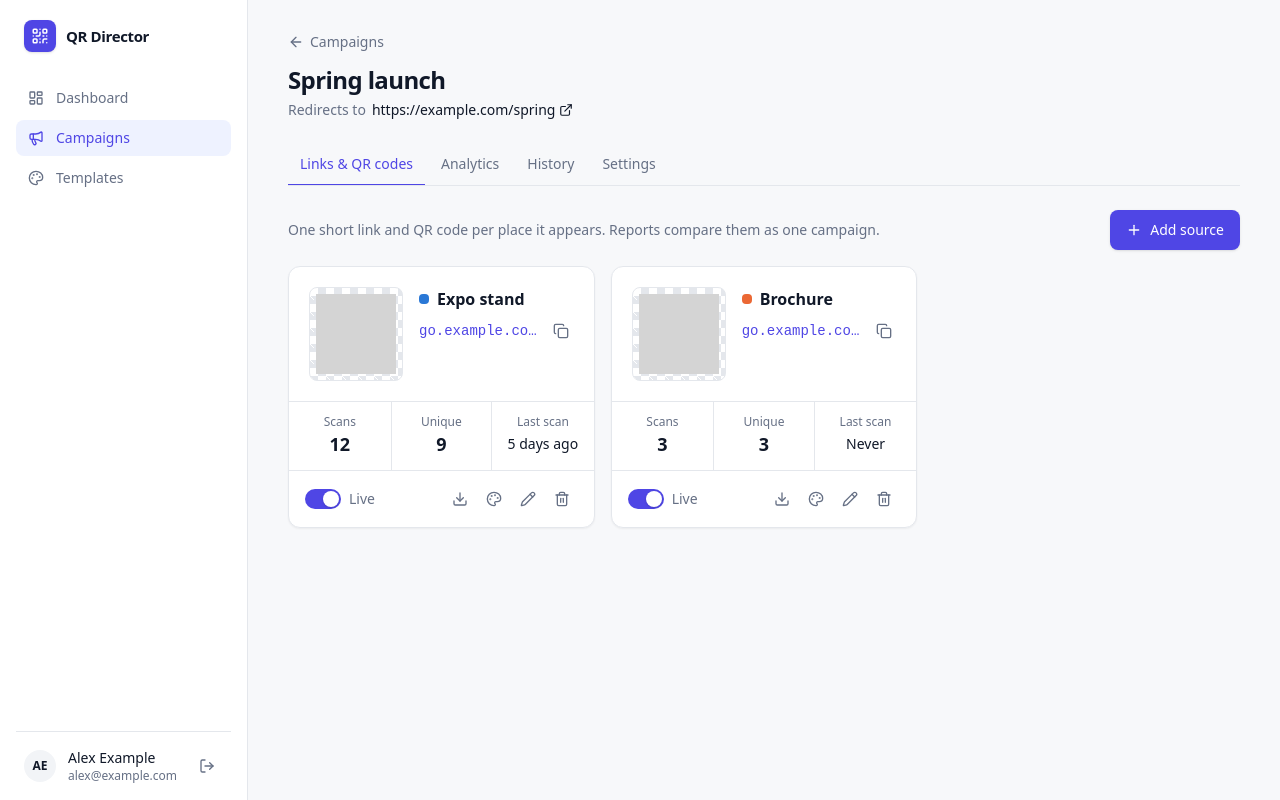
campaigns › warns when a custom code is already taken
Click the button "Add source": (1175, 230) top-left (1110, 210), bottom-right (1240, 250)
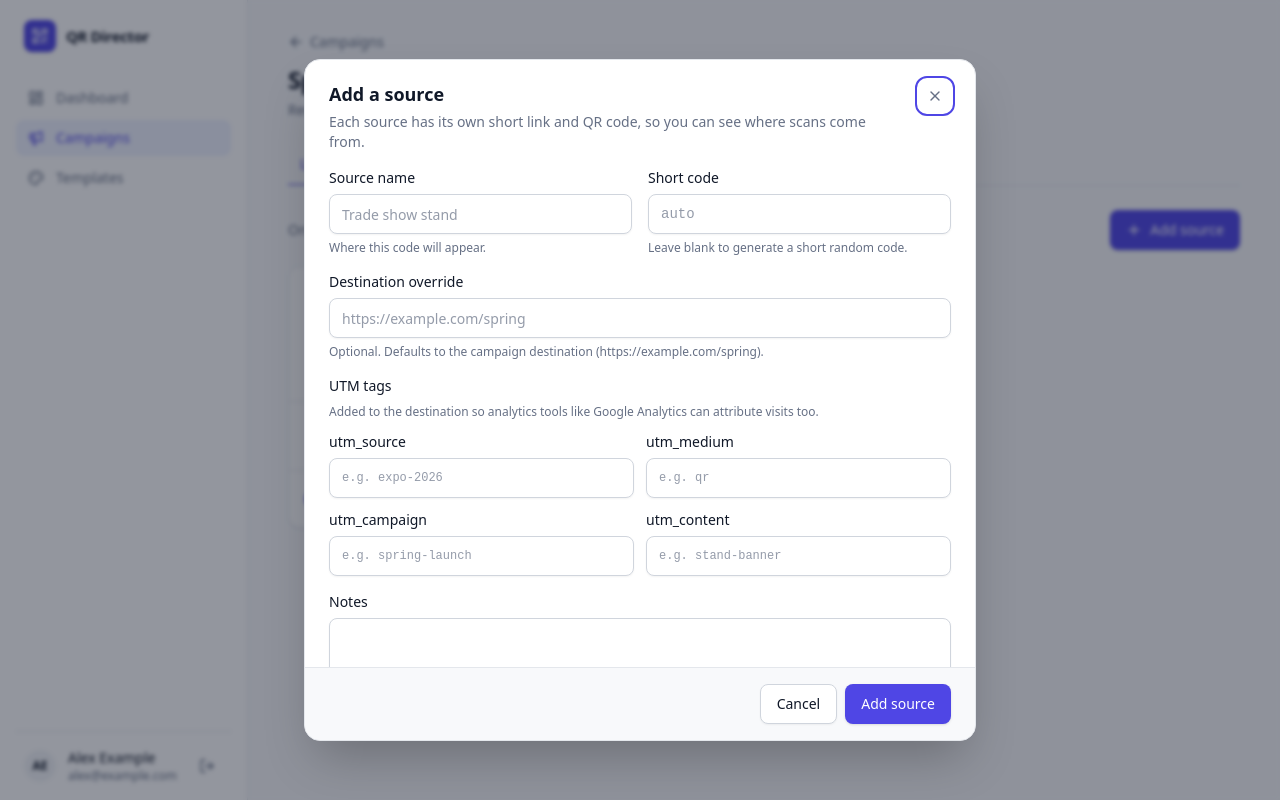
In the field labelled "Short code": (800, 214) top-left (648, 194), bottom-right (951, 234), type "taken"
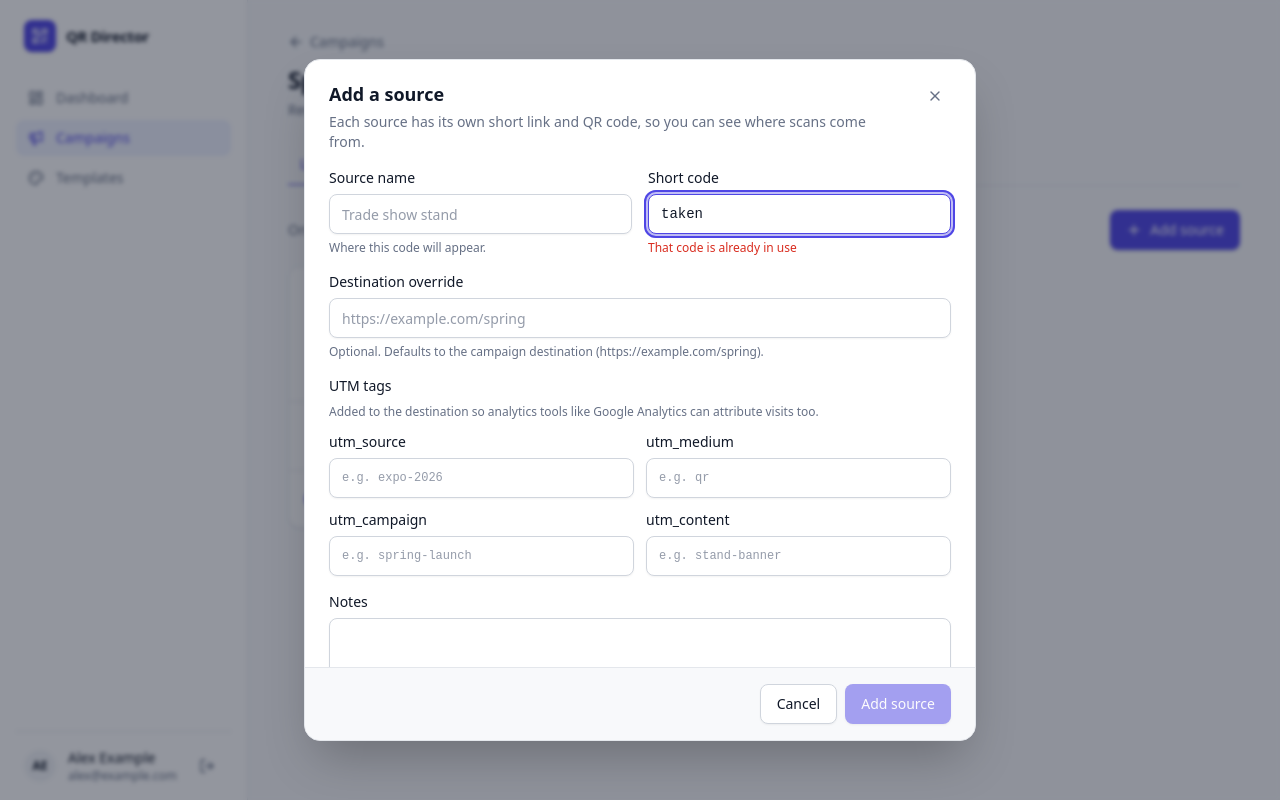
Expected: the text "That code is already in use" is shown, top-left (648, 239), bottom-right (797, 256)
Expected: the button "Add source" is disabled, top-left (845, 684), bottom-right (951, 724)
